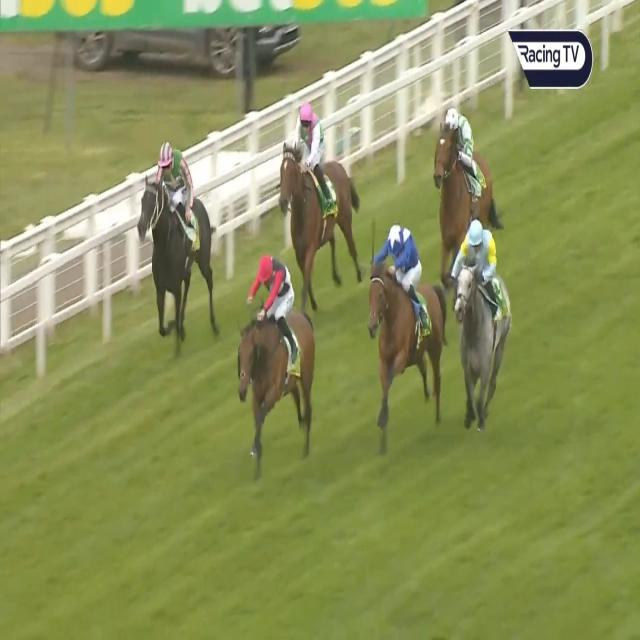horses-racing: (135, 130, 227, 341), (236, 243, 329, 450), (276, 102, 371, 290), (369, 210, 443, 436), (454, 190, 515, 442), (425, 101, 498, 243)
